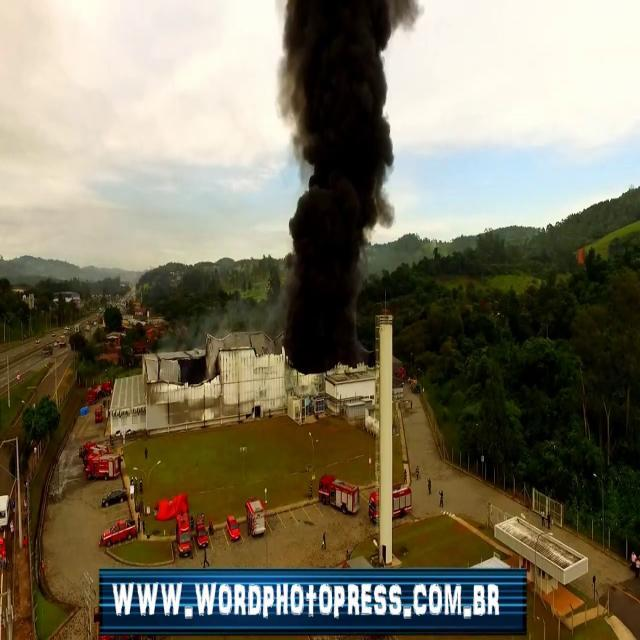Smoke: (272, 5, 413, 372)
